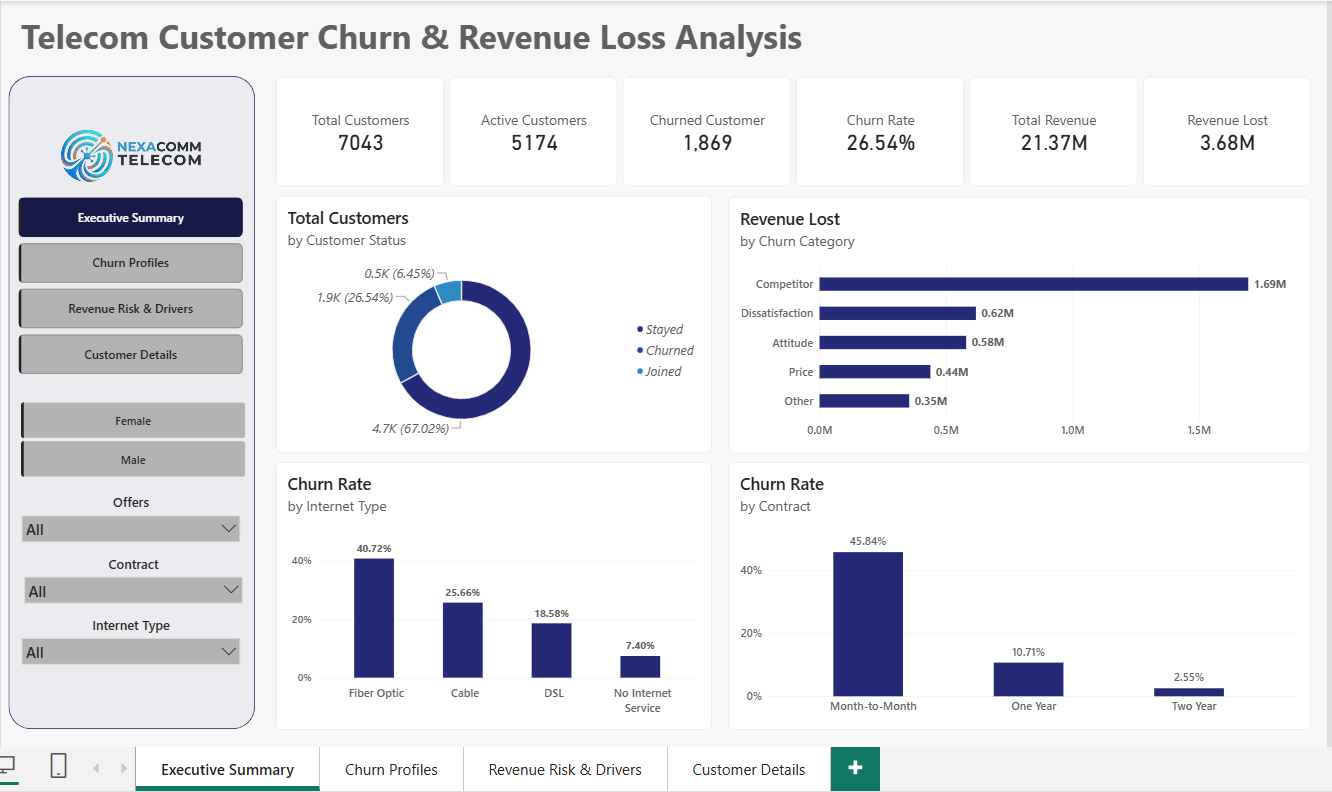

The page's visual inventory and layout, read from the dashboard file:
{"tool":"powerbi","page":{"name":"Executive Summary","canvas":[1920,1080],"ordinal":0},"visuals":[{"type":"cardVisual","fields":{"Data":["Calculations.Total Customers","Calculations.Active Customers","Calculations.Churned Customer","Calculations.Churn Rate","Calculations.Total Revenue","Calculations.Revenue Lost"]},"box":[398.1,111.1,1498.1,157.4],"z":0},{"type":"donutChart","fields":{"Y":["Calculations.Total Customers"],"Category":["fact_table.Customer Status"]},"box":[398.1,282.3,631.6,371],"z":1000},{"type":"clusteredBarChart","fields":{"Y":["Calculations.Revenue Lost"],"Category":["dim_ChurnCategory.Churn Category"]},"box":[1053.7,283.3,842.6,370.4],"z":2000},{"type":"columnChart","fields":{"Category":["dim_contract.Contract"],"Y":["Calculations.Churn Rate"]},"box":[1053.7,668.5,842.6,387],"z":3000},{"type":"columnChart","fields":{"Category":["dim_internet_type.Internet Type"],"Y":["Calculations.Churn Rate"]},"box":[398.1,668.5,631.5,387],"z":4000},{"type":"textbox","box":[29.6,18.5,1151.9,77.8],"z":5000},{"type":"shape","box":[10.4,108.5,356.9,945.4],"z":6000},{"type":"pageNavigator","box":[25.3,284.1,325.7,257],"z":7000},{"type":"advancedSlicerVisual","fields":{"Values":["dim_customer.Gender"]},"box":[29,580.9,325.7,108.6],"z":8000},{"type":"slicer","title":"Offers","fields":{"Values":["dim_offer.Offer"]},"box":[25.3,713,325.7,88.7],"z":9000},{"type":"slicer","title":"Contract","fields":{"Values":["dim_contract.Contract"]},"box":[29,801.7,325.7,88.7],"z":10000},{"type":"slicer","title":"Internet Type","fields":{"Values":["dim_internet_type.Internet Type"]},"box":[25.3,890.4,325.7,88.7],"z":11000},{"type":"image","box":[25.3,177.3,325.7,90.5],"z":12000}]}

Visuals, with their boxes on the page's 1920x1080 design canvas (x1, y1, x2, y2). These are canvas units, not pixel positions in the 1332x792 screenshot, which may show the page scaled, cropped or inside an application window:
cardVisual - Calculations.Total Customers x Calculations.Active Customers: 398/111/1896/268
donutChart - Calculations.Total Customers x fact_table.Customer Status: 398/282/1030/653
clusteredBarChart - Calculations.Revenue Lost x dim_ChurnCategory.Churn Category: 1054/283/1896/654
columnChart - dim_contract.Contract x Calculations.Churn Rate: 1054/668/1896/1056
columnChart - dim_internet_type.Internet Type x Calculations.Churn Rate: 398/668/1030/1056
textbox: 30/18/1182/96
shape: 10/108/367/1054
pageNavigator: 25/284/351/541
advancedSlicerVisual - dim_customer.Gender: 29/581/355/690
"Offers" slicer: 25/713/351/802
"Contract" slicer: 29/802/355/890
"Internet Type" slicer: 25/890/351/979
image: 25/177/351/268
